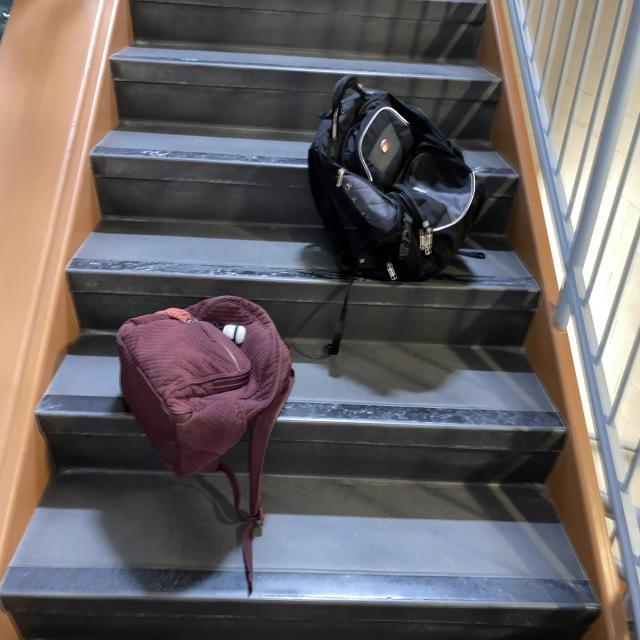Backpacks: (310, 79, 488, 292), (116, 292, 291, 481)
